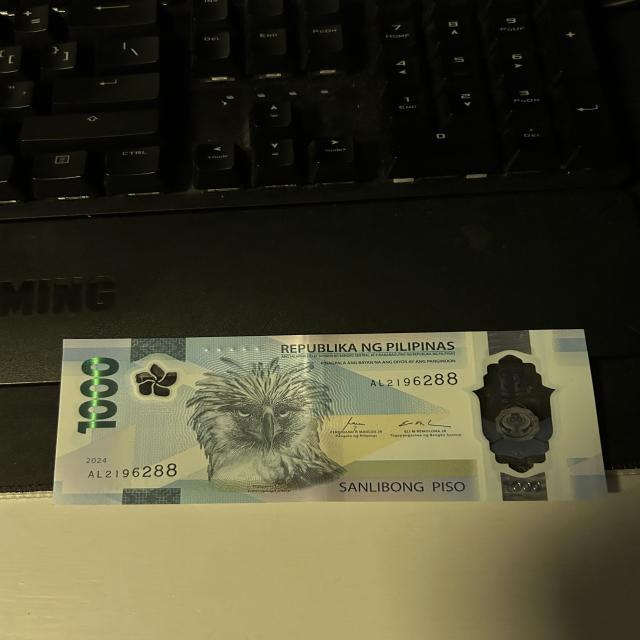clear_window: (466, 350, 561, 480)
eagle: (176, 360, 341, 489)
sampaguita: (124, 361, 186, 397)
